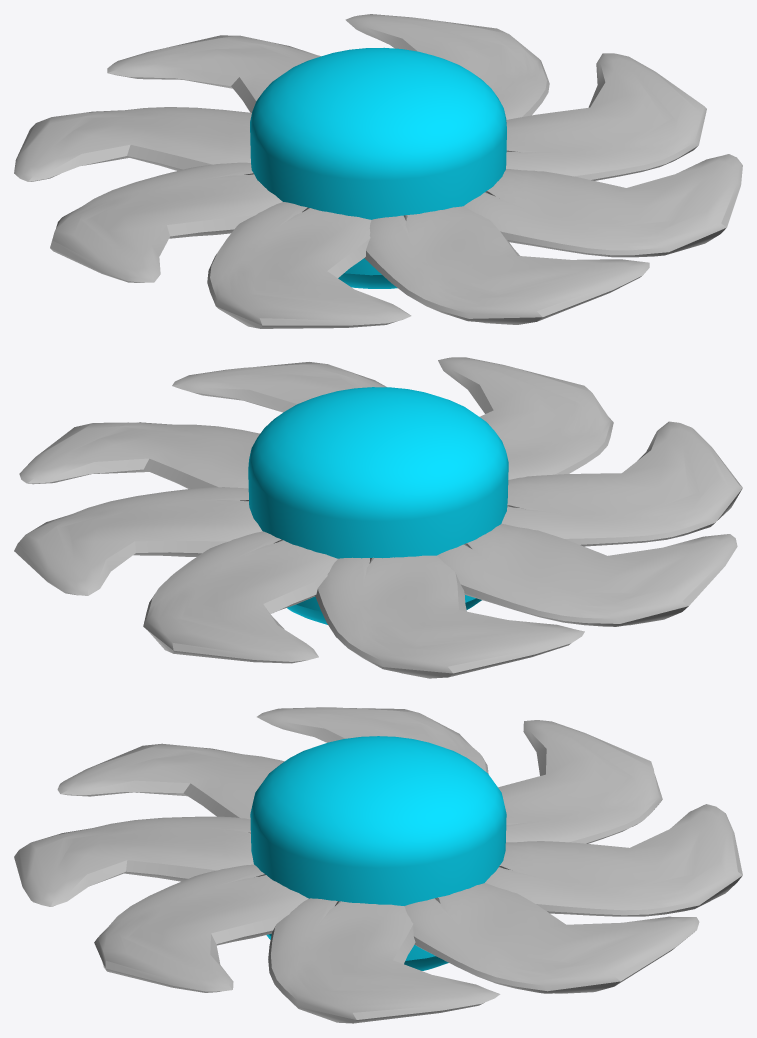
File: Peeler.fbx
3 views of the same model, one above another, from view 1: azimuth 30°, elevation 25°; view 2: azimuth 150°, elevation 25°; view 3: azimuth 270°, elevation 25° (orthographic).
Parts seen in each view (by area): view 1: Sphere; view 2: Sphere; view 3: Sphere.
Part boxes in pixels (x1,y1,x2,y2): Sphere: (14,14,742,328); Sphere: (14,357,742,678); Sphere: (14,707,742,1023).
Bounding box in the file's own units: 569 × 169 × 569.
